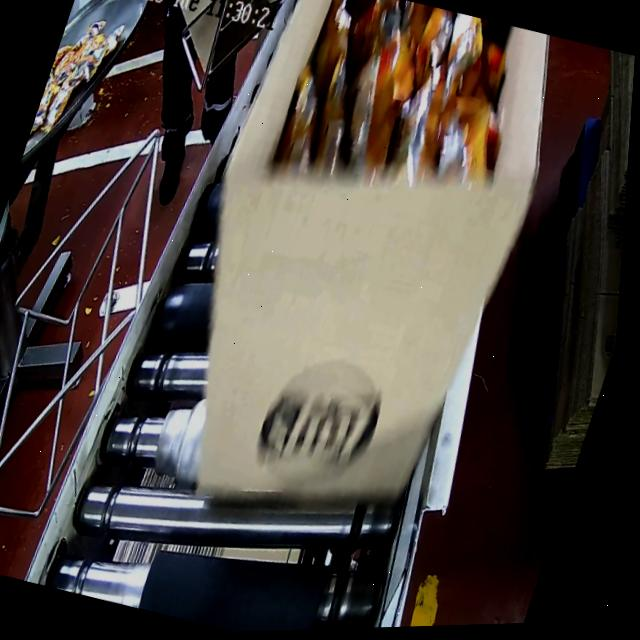FRENCH_CHEESE: (267, 0, 546, 226)
